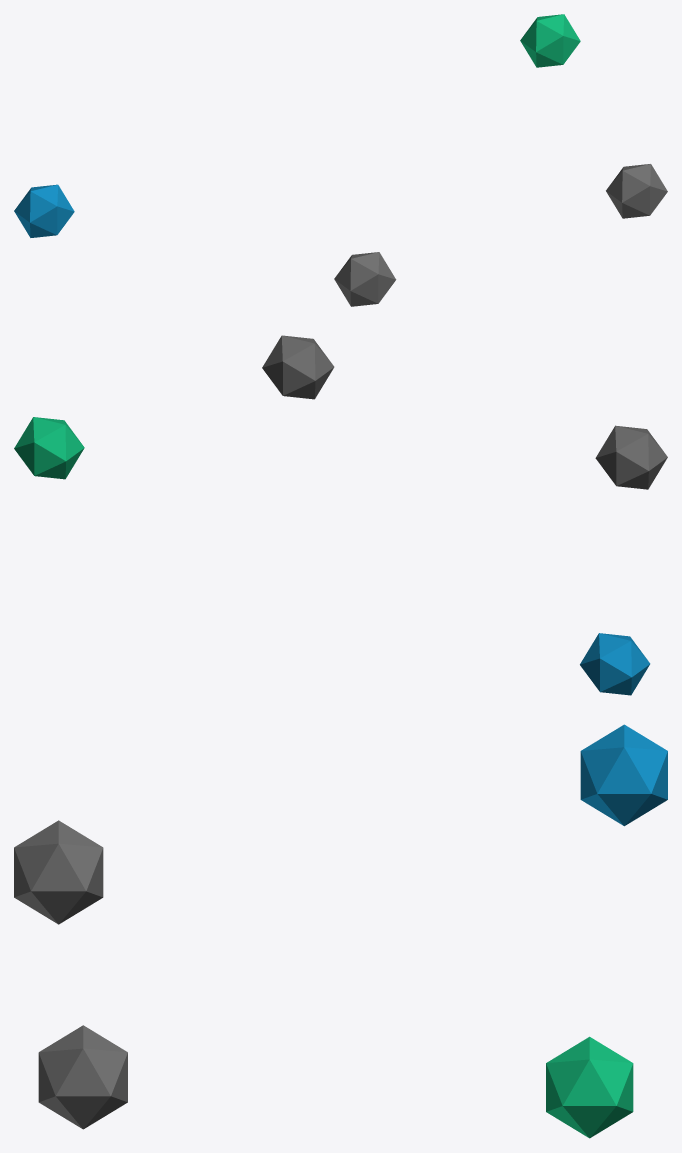
The picture shows the model from 3 angles, top to bottom: view 1: azimuth 30°, elevation 25°; view 2: azimuth 150°, elevation 25°; view 3: azimuth 270°, elevation 25°; orthographic projection. The views are drawn at different scales.
Parts seen in each view (by area): view 1: 03_02_00; view 2: 03_02_00; view 3: 03_02_00.
Boxes of the visible parts, <box> form: 03_02_00: <box>14,14,667,306</box>; 03_02_00: <box>14,335,667,695</box>; 03_02_00: <box>14,724,667,1138</box>.
Bounding box in the file's own units: 0.6551 × 0.1203 × 0.4067.
